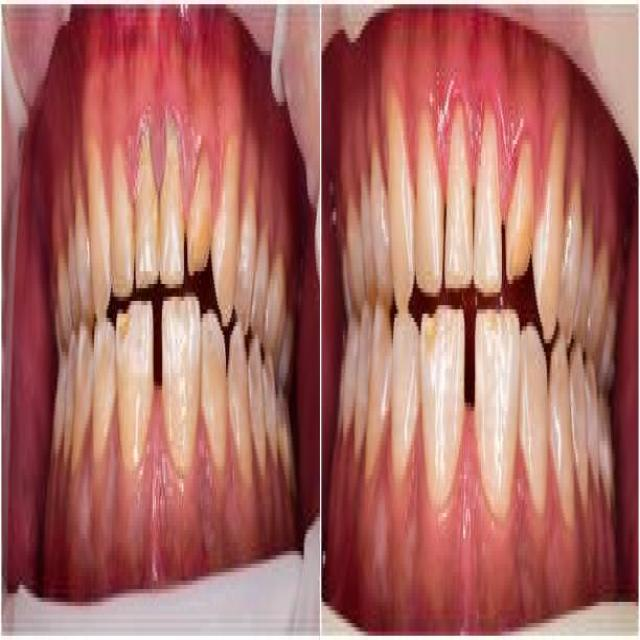caries: (118, 294, 136, 362), (422, 295, 441, 359)
